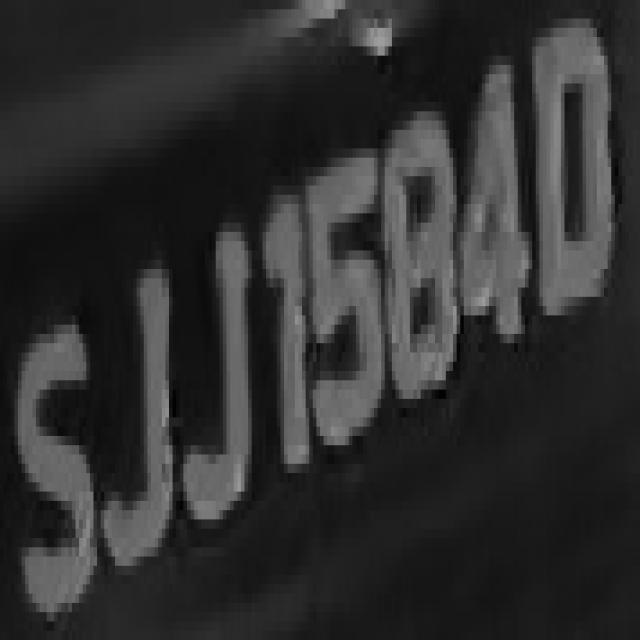1: (273, 158, 313, 538)
4: (457, 28, 532, 399)
5: (298, 112, 385, 454)
8: (388, 74, 461, 436)
D: (528, 0, 618, 371)
J: (90, 195, 180, 584), (176, 186, 259, 575)
S: (7, 297, 97, 640)
